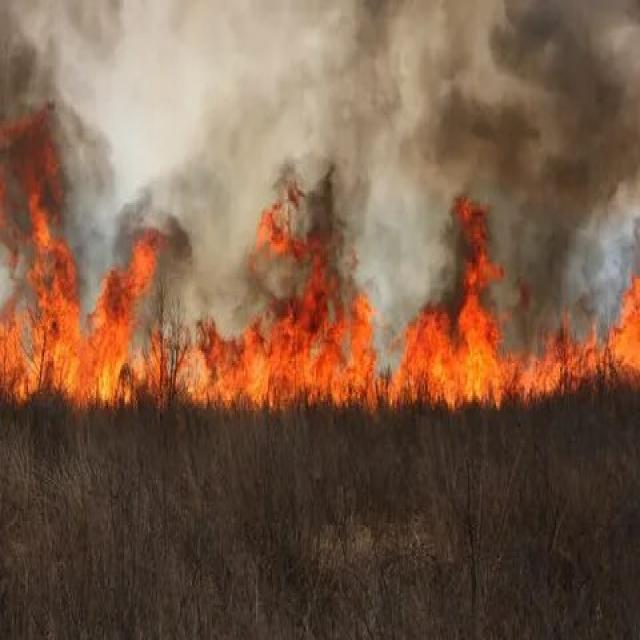Fire: (0, 249, 640, 444)
Smoke: (0, 0, 640, 276)
